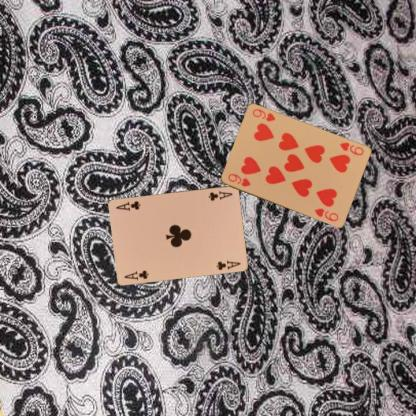9h: (225, 171, 252, 188), (337, 140, 364, 156)
Ac: (206, 188, 234, 202), (122, 268, 150, 282)
